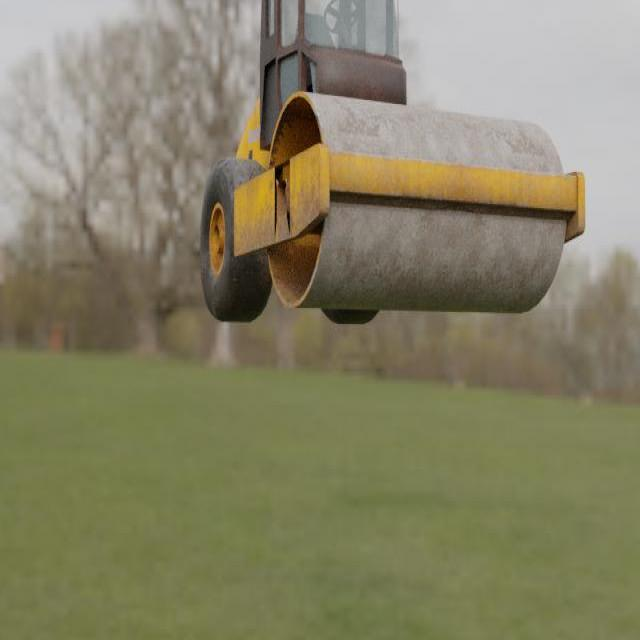Roller: (199, 0, 585, 325)
